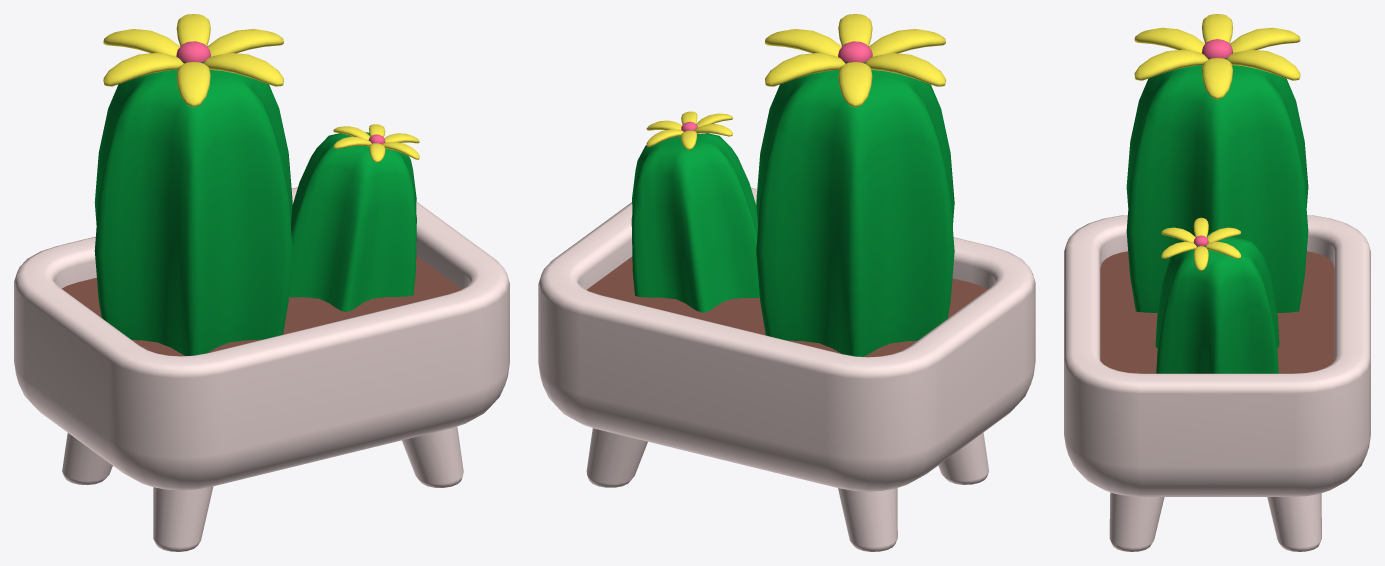
Rendered from City_20_Cactus_3.glb.
The picture shows the model from 3 angles, left to right: view 1: azimuth 30°, elevation 25°; view 2: azimuth 150°, elevation 25°; view 3: azimuth 270°, elevation 25°; orthographic projection. The views are drawn at different scales.
Visible parts, largest first — view 1: City_20_Cactus_3; view 2: City_20_Cactus_3; view 3: City_20_Cactus_3.
Boxes of the visible parts, left/top/right/bottom form: City_20_Cactus_3: left=14, top=14, right=509, bottom=551; City_20_Cactus_3: left=538, top=14, right=1035, bottom=551; City_20_Cactus_3: left=1064, top=14, right=1370, bottom=551.
Bounding box in the file's own units: 0.8204 × 0.9095 × 0.6092.
Materials: 1 (1 with a texture image).
